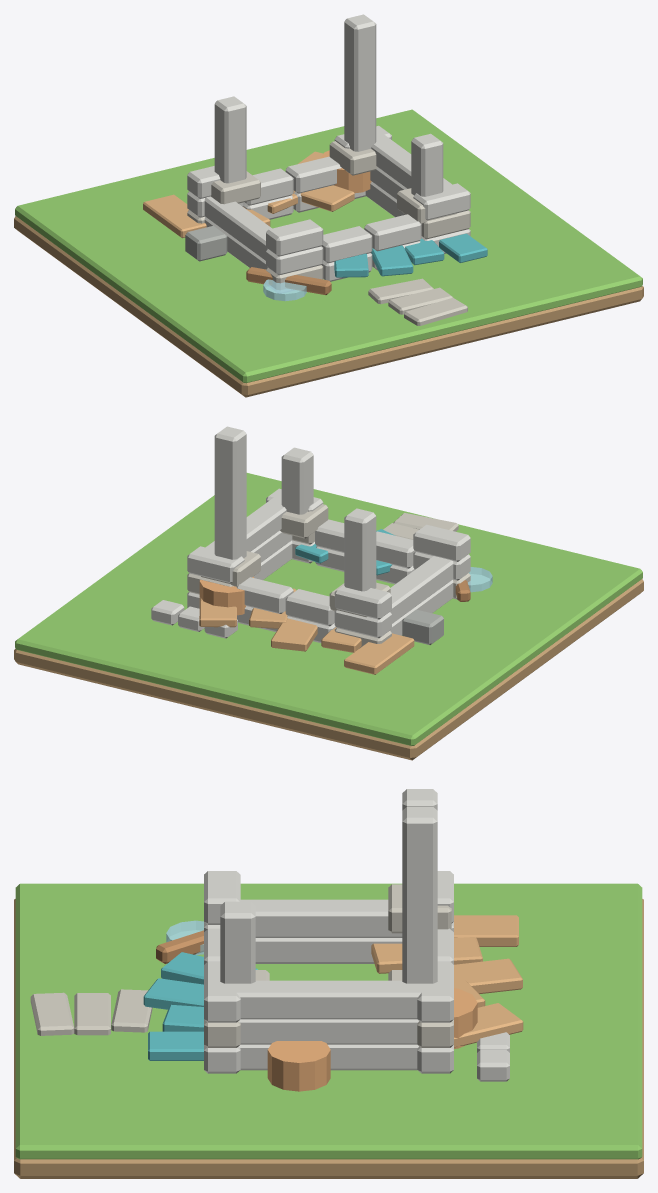
Rendered from tower_l05_ruined.glb.
3 renders of one model, top to bottom at view 1: azimuth 30°, elevation 25°; view 2: azimuth 150°, elevation 25°; view 3: azimuth 270°, elevation 25°, orthographic. The views are drawn at different scales.
Parts seen in each view (by area): view 1: tower_l05_grass_tile, tower_l05_earth_tile, snapped_upright_0.58_0.52, snapped_upright_-0.58_0.52, ruin_stone_return_1_-0.72, snapped_upright_0.58_-0.52, ruin_stone_course_2_-1_0, ruin_stone_course_1_-1_2, ruin_stone_return_2_0.72, collapsed_deck_0, ruin_stone_course_1_-1_1, ruin_stone_course_1_1_2 (+23 smaller); view 2: tower_l05_grass_tile, tower_l05_earth_tile, snapped_upright_0.58_0.52, snapped_upright_-0.58_0.52, ruin_stone_return_1_-0.72, snapped_upright_0.58_-0.52, collapsed_deck_0, ruin_stone_course_2_-1_0, ruin_stone_course_2_1_0, ruin_stone_return_2_0.72, ruin_stone_course_1_1_2, ruin_stone_course_1_1_1 (+19 smaller); view 3: tower_l05_grass_tile, tower_l05_earth_tile, ruin_stone_return_2_0.72, snapped_upright_0.58_0.52, ruin_stone_return_1_-0.72, ruin_stone_return_1_0.72, ruin_stone_return_0_-0.72, ruin_stone_return_0_0.72, fallen_bell, snapped_upright_0.58_-0.52, collapsed_deck_0, collapsed_deck_2 (+25 smaller).
Part boxes in pixels (box(x1,y1,x2,y2)): tower_l05_grass_tile: box(15, 109, 642, 383); tower_l05_earth_tile: box(14, 216, 643, 397); snapped_upright_0.58_0.52: box(344, 14, 376, 151); snapped_upright_-0.58_0.52: box(214, 96, 246, 183); ruin_stone_return_1_-0.72: box(204, 196, 271, 260); snapped_upright_0.58_-0.52: box(411, 133, 443, 196); ruin_stone_course_2_-1_0: box(266, 219, 323, 256); ruin_stone_course_1_-1_2: box(364, 214, 421, 251); ruin_stone_return_2_0.72: box(371, 134, 451, 188); collapsed_deck_0: box(143, 194, 206, 238); ruin_stone_course_1_-1_1: box(321, 226, 372, 263); ruin_stone_course_1_1_2: box(285, 156, 341, 193); tower_l05_grass_tile: box(15, 473, 642, 745); tower_l05_earth_tile: box(14, 579, 643, 760); snapped_upright_0.58_0.52: box(214, 426, 246, 559); snapped_upright_-0.58_0.52: box(344, 508, 376, 591); ruin_stone_return_1_-0.72: box(390, 556, 453, 623); snapped_upright_0.58_-0.52: box(281, 447, 313, 514); collapsed_deck_0: box(344, 633, 414, 674); ruin_stone_course_2_-1_0: box(413, 524, 470, 561); ruin_stone_course_2_1_0: box(334, 585, 391, 619); ruin_stone_return_2_0.72: box(204, 496, 286, 551); ruin_stone_course_1_1_2: box(236, 577, 293, 613); ruin_stone_course_1_1_1: box(285, 589, 334, 626); tower_l05_grass_tile: box(15, 883, 642, 1159); tower_l05_earth_tile: box(14, 899, 643, 1178); ruin_stone_return_2_0.72: box(236, 980, 421, 1019); snapped_upright_0.58_0.52: box(402, 806, 437, 983); ruin_stone_return_1_-0.72: box(240, 899, 402, 937); ruin_stone_return_1_0.72: box(239, 1019, 418, 1044); ruin_stone_return_0_-0.72: box(255, 938, 402, 963); ruin_stone_return_0_0.72: box(239, 1044, 418, 1070); fallen_bell: box(267, 1041, 330, 1091); snapped_upright_0.58_-0.52: box(220, 901, 255, 983); collapsed_deck_0: box(454, 915, 518, 946); collapsed_deck_2: box(454, 958, 522, 993).
Size of the model in its own units: 3.6 by 1.76 by 3.6.
